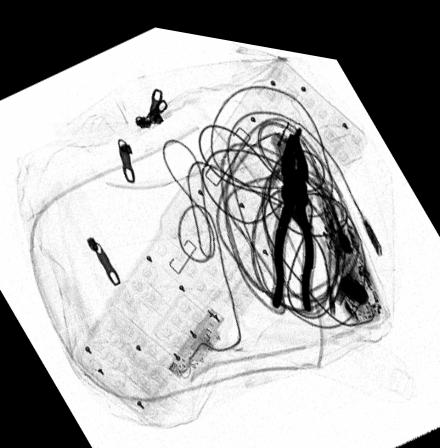Pliers: (270, 120, 314, 300)
